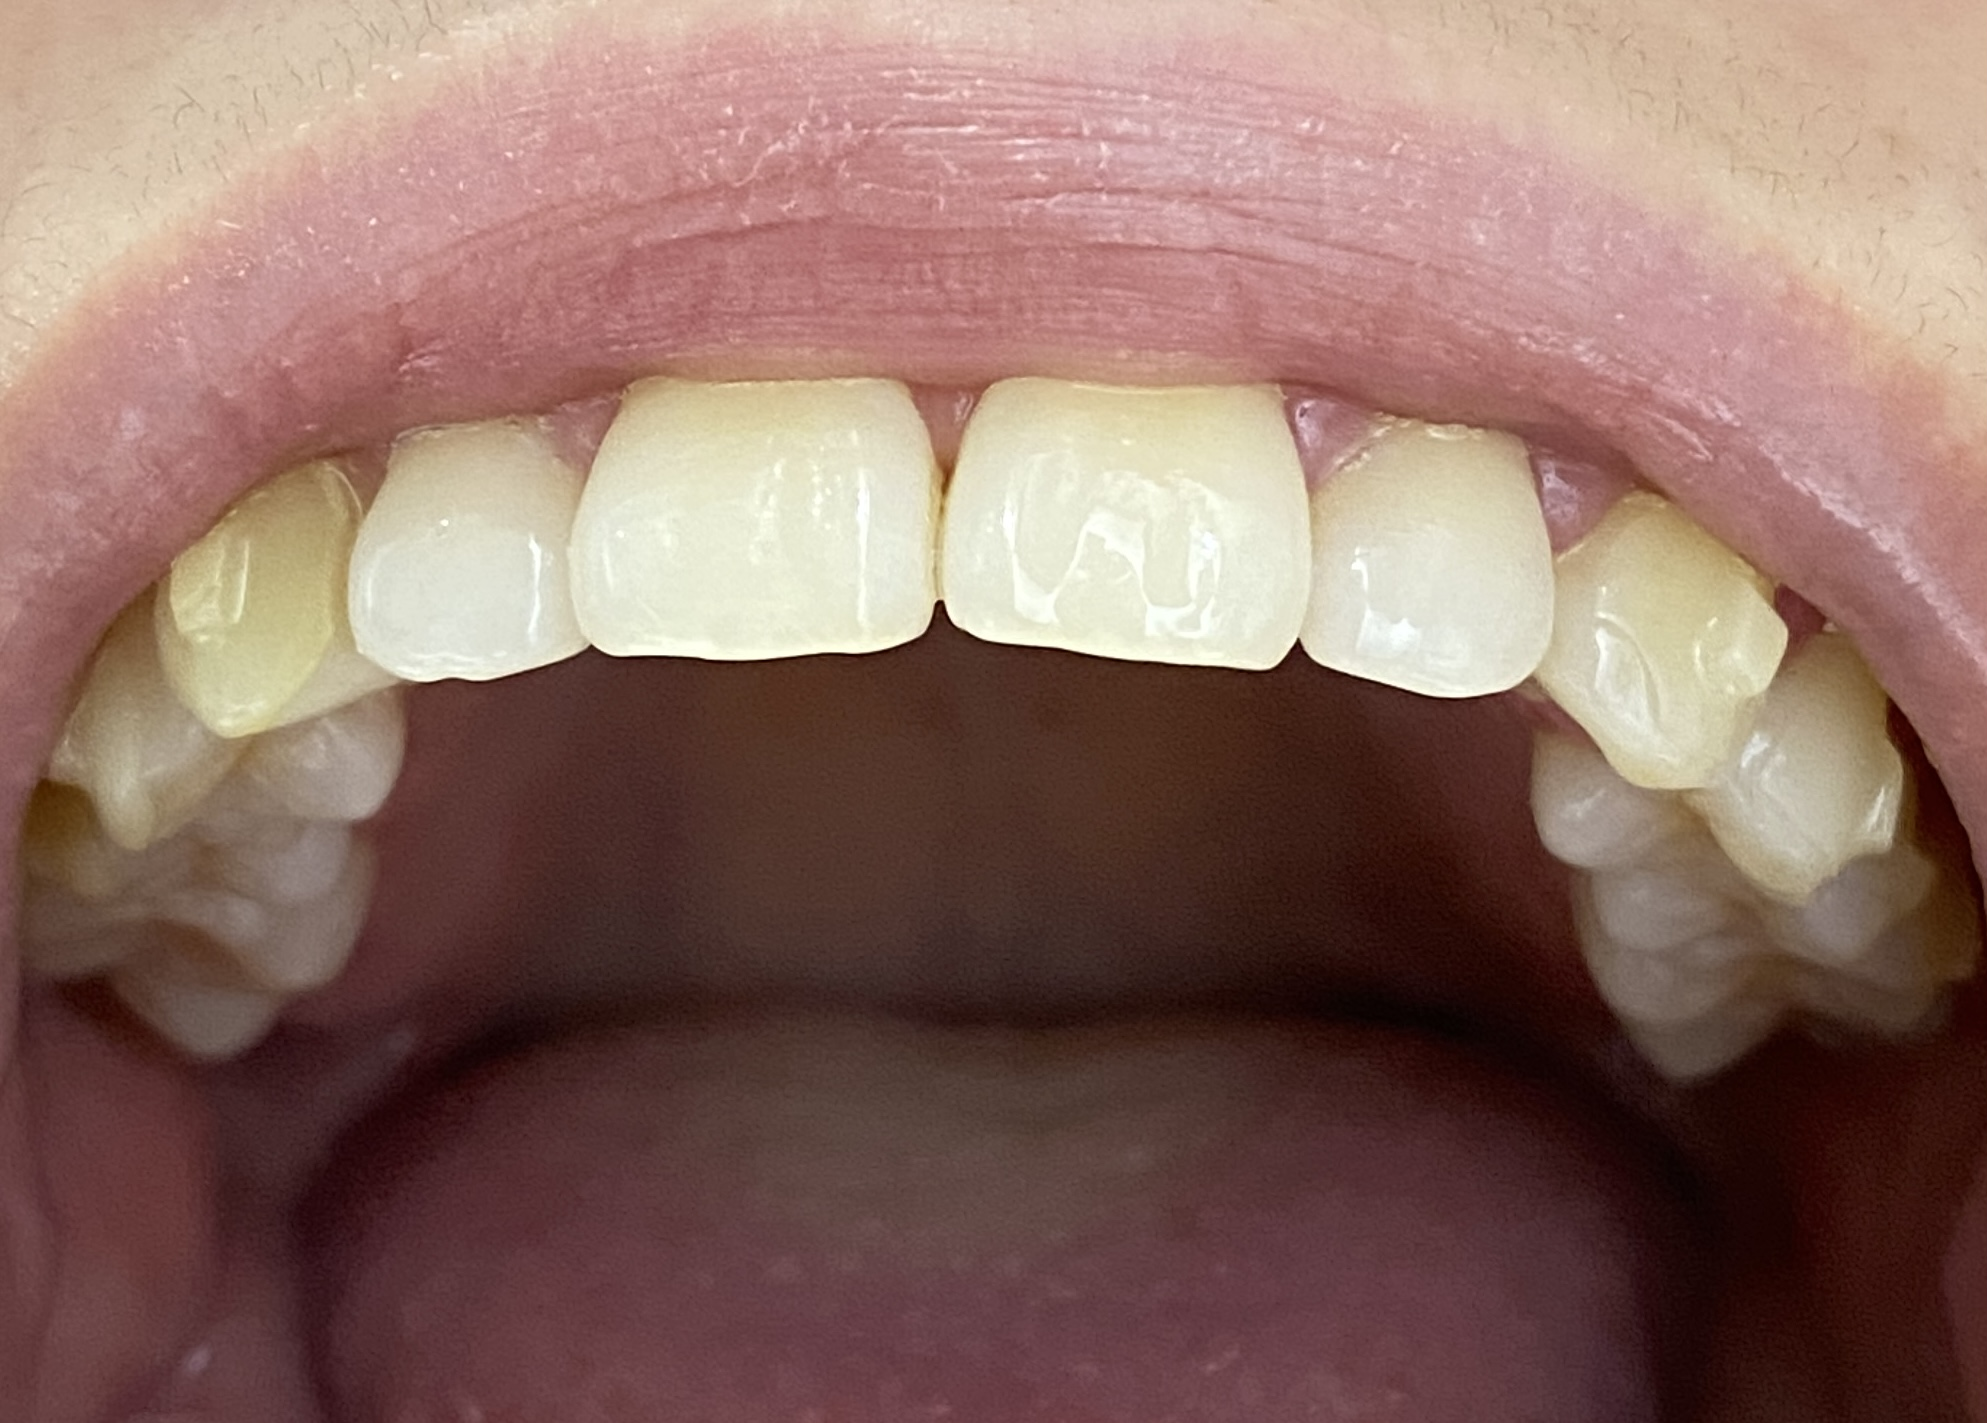teeth: (946, 391, 1283, 661), (1531, 644, 1893, 882), (602, 388, 921, 634), (63, 616, 390, 856), (1548, 499, 1765, 784), (148, 474, 380, 732), (357, 431, 581, 651), (1326, 427, 1533, 662)
